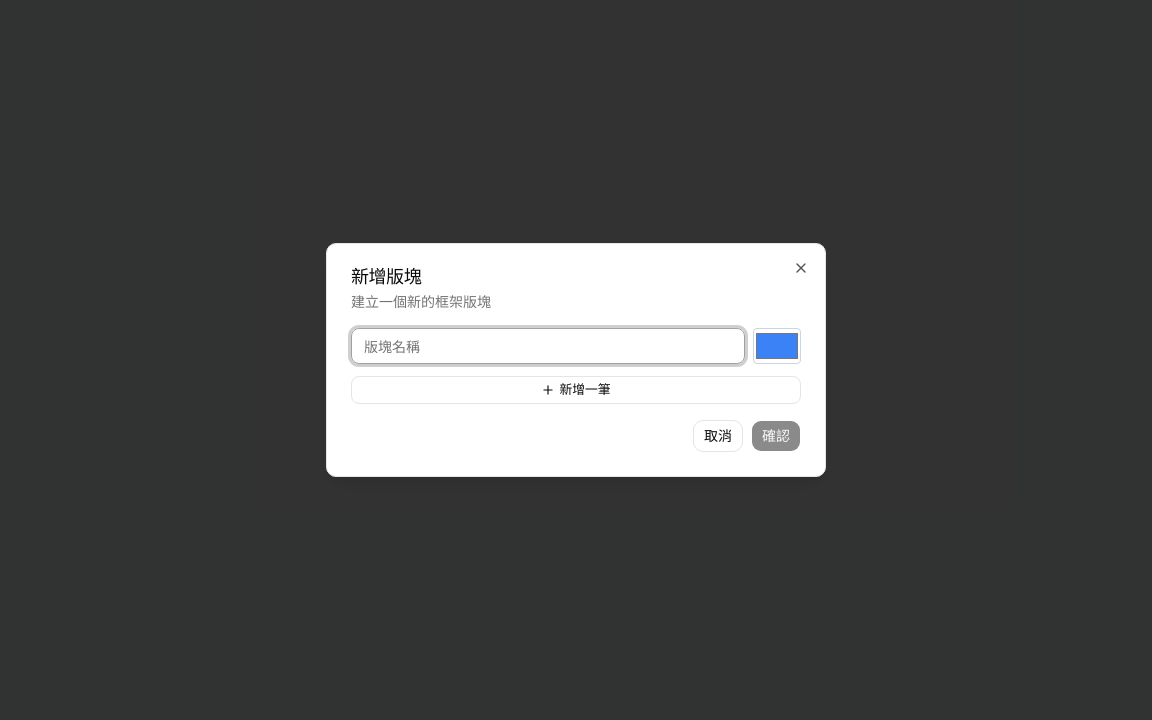
Test case: CategoryDialog › Add Mode - Row Management › shows remove button when there are 2 or more rows
The image size is (1152, 720).
Click the button "新增一筆" at (576, 390), box [351,376,801,404]
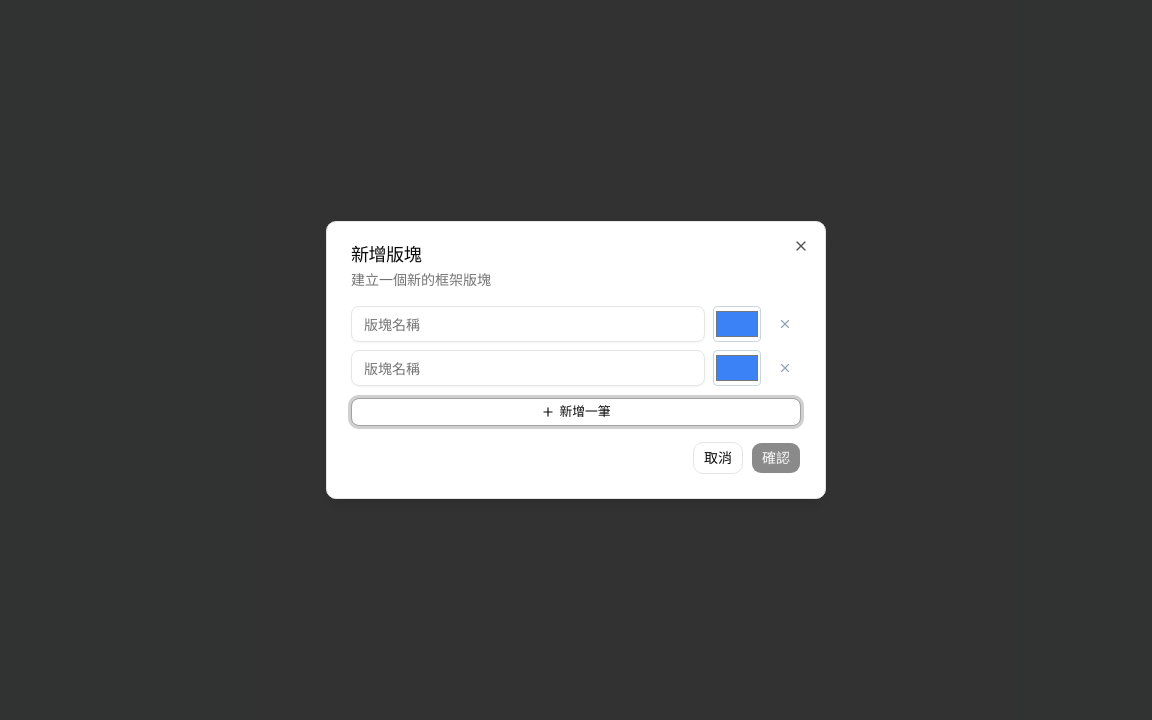
expect the number of buttons named "刪除第" is 2: met, box [769,310,801,338]; [769,354,801,382]
